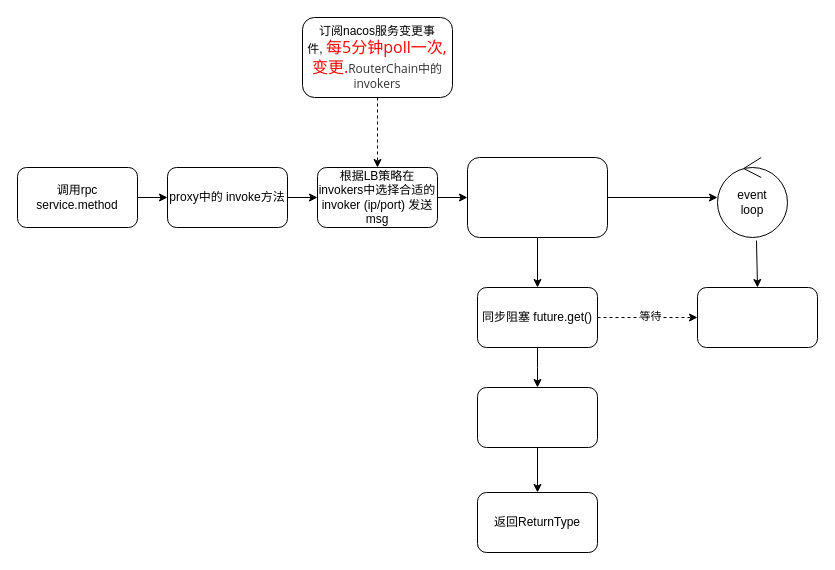
Image size: 835x570. Some labels were removed from this diagram. Here are the shapes that lost their labels. From the top down, the centre of each, then its label:
At point 537,197: "channel.send(msg) 此时可以创建一个 future 用于接收response".
At point 757,317: "override ChannelRead 可以在这里面手动设置 future .complete".
At point 537,417: "deserialize 根据二进制字节流和ReturnType反序列化 例如 kyro.readObject".
